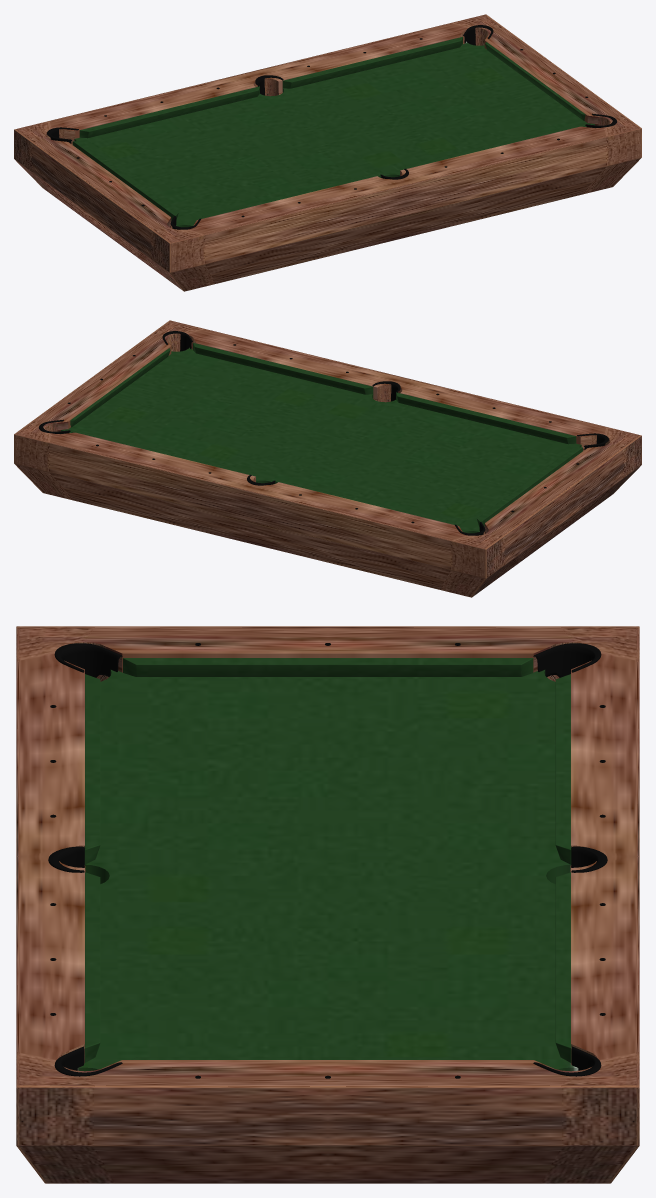
Rendered from table.FBX.
The picture shows the model from 3 angles, top to bottom: view 1: azimuth 30°, elevation 25°; view 2: azimuth 150°, elevation 25°; view 3: azimuth 270°, elevation 25°; orthographic projection. The views are drawn at different scales.
Parts seen in each view (by area): view 1: ARCHMODE15, ARCHMODE21, ARCHMODE17, ARCHMODE16; view 2: ARCHMODE15, ARCHMODE21, ARCHMODE17, ARCHMODE16; view 3: ARCHMODE21, ARCHMODE15, ARCHMODE17, ARCHMODE16.
Part boxes in pixels (x1,y1,x2,y2): ARCHMODE15: [14, 14, 641, 291]; ARCHMODE21: [74, 41, 594, 227]; ARCHMODE17: [72, 37, 585, 220]; ARCHMODE16: [47, 25, 616, 229]; ARCHMODE15: [14, 320, 641, 597]; ARCHMODE21: [61, 347, 581, 533]; ARCHMODE17: [70, 343, 582, 526]; ARCHMODE16: [39, 331, 608, 535]; ARCHMODE21: [77, 670, 578, 1071]; ARCHMODE15: [16, 626, 639, 1183]; ARCHMODE17: [84, 658, 571, 1062]; ARCHMODE16: [48, 643, 607, 1076].
Bounding box in the file's own units: 512 × 293 × 61.96.
